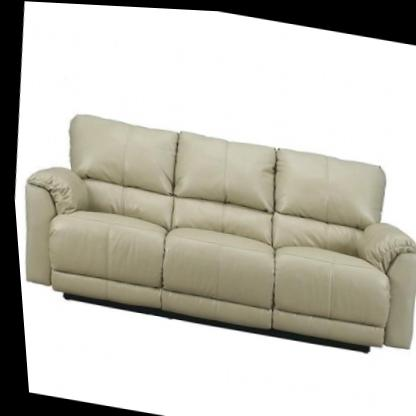Sofa: (6, 98, 416, 362)
